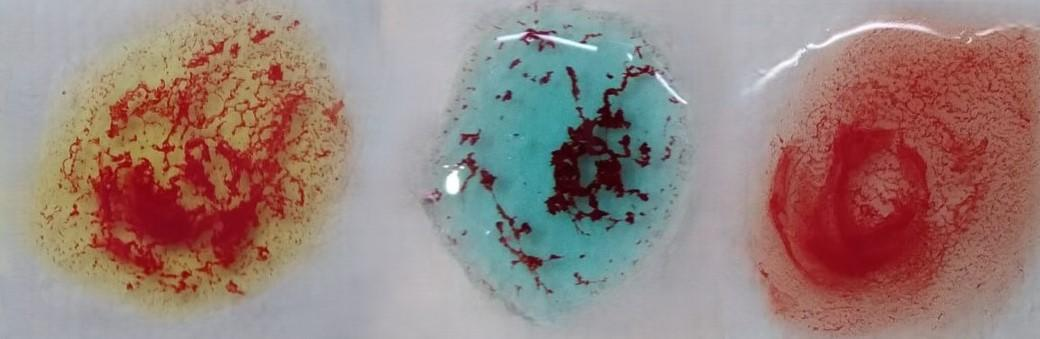A: (434, 16, 688, 321)
B: (50, 5, 338, 314)
D: (750, 7, 1033, 339)
